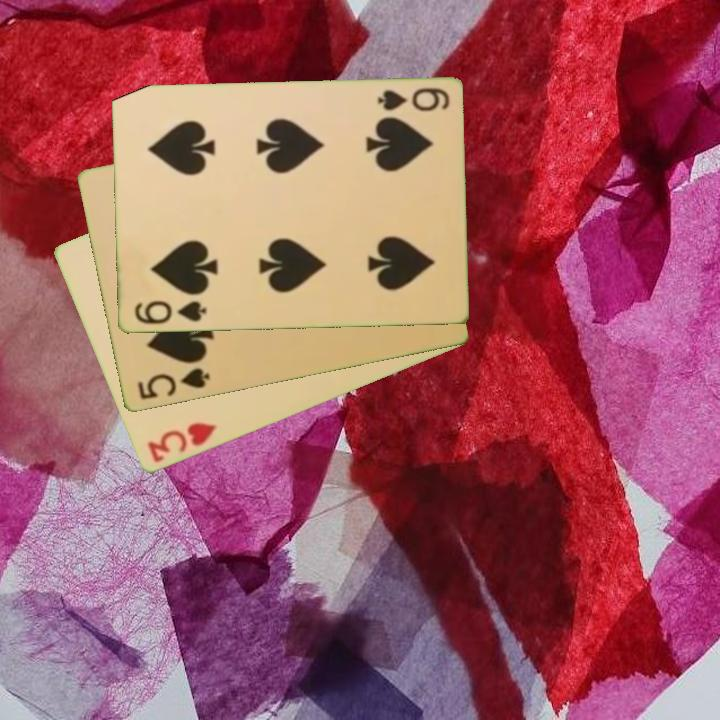3h: (144, 419, 220, 466)
5s: (133, 365, 213, 403)
6s: (373, 84, 452, 115), (131, 297, 209, 328)
